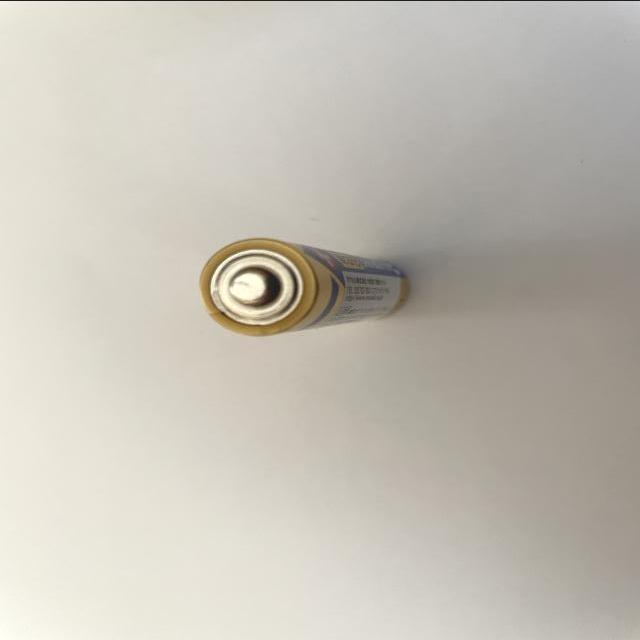AA: (196, 234, 417, 335)
